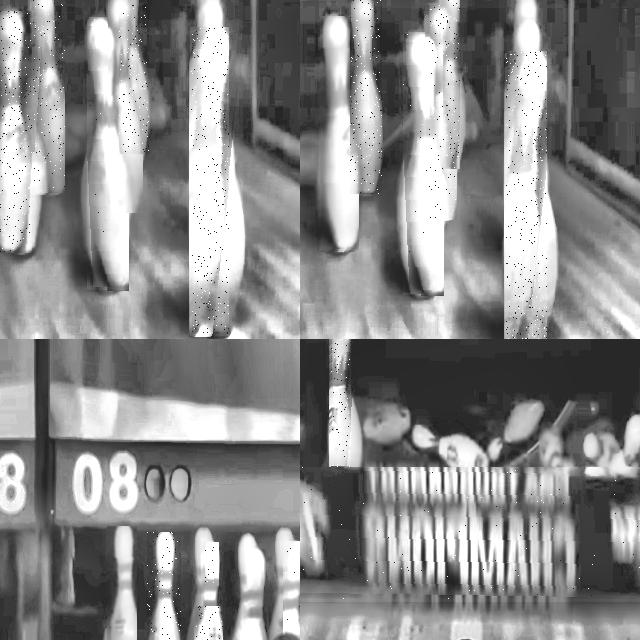bowling-pins: (506, 52, 547, 339), (191, 27, 229, 334), (87, 18, 129, 288), (403, 33, 444, 295), (321, 16, 358, 249), (0, 12, 32, 253), (108, 0, 143, 213), (350, 0, 382, 194), (428, 6, 456, 220), (33, 0, 64, 193), (128, 0, 149, 153), (149, 533, 179, 640), (108, 527, 136, 640), (186, 528, 212, 640), (443, 0, 460, 169), (269, 529, 294, 640), (331, 339, 351, 473), (231, 533, 256, 640), (286, 542, 300, 640), (196, 607, 222, 640), (204, 543, 218, 585)
sweep board: (300, 468, 640, 596)
